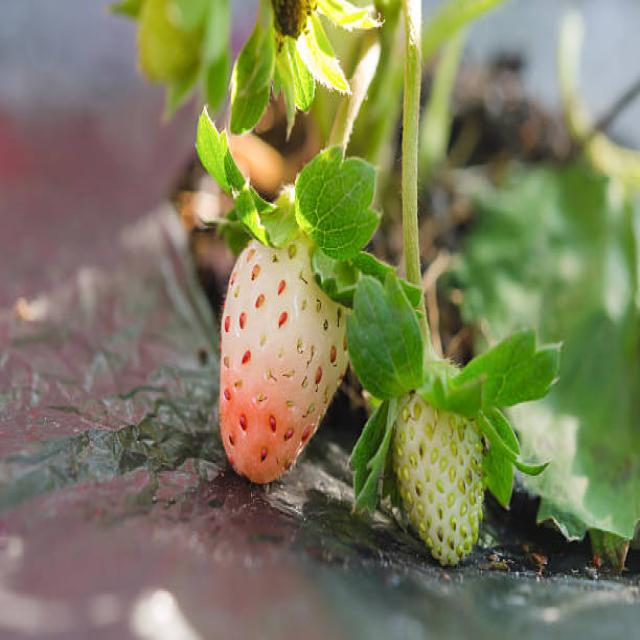Healthy Fruit: (217, 233, 352, 482), (393, 387, 484, 564)
